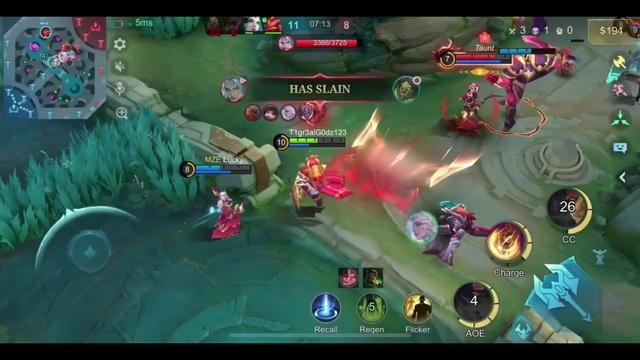Adc_Aliado: (39, 26, 52, 39)
Arbusto: (0, 112, 196, 254)
Aurora: (454, 83, 480, 131)
Exp_Aliado: (52, 53, 61, 66)
Exp_Enemigo: (67, 49, 76, 62)
HP_Aliado: (195, 164, 252, 170)
HP_Enemigo: (454, 55, 509, 60)
HP_Heroe_Principal: (288, 138, 343, 143)
Hechizo_Batalla: (402, 292, 433, 324)
Jungla_Enemigo: (61, 42, 70, 51)
Lord_Vexana: (490, 52, 566, 130)
Mana: (194, 170, 253, 175), (453, 59, 509, 64), (288, 143, 348, 147)
Mid_Aliado: (49, 58, 58, 68)
Minimapa: (0, 16, 106, 119)
Roamer_Enemigo: (59, 51, 70, 64)
Skill2: (486, 220, 530, 261)
Tigreal: (291, 154, 347, 208)
Torre_destruida: (518, 138, 592, 185)
Tortuga_mapa: (28, 41, 40, 52)
Vexana: (212, 188, 243, 238)
